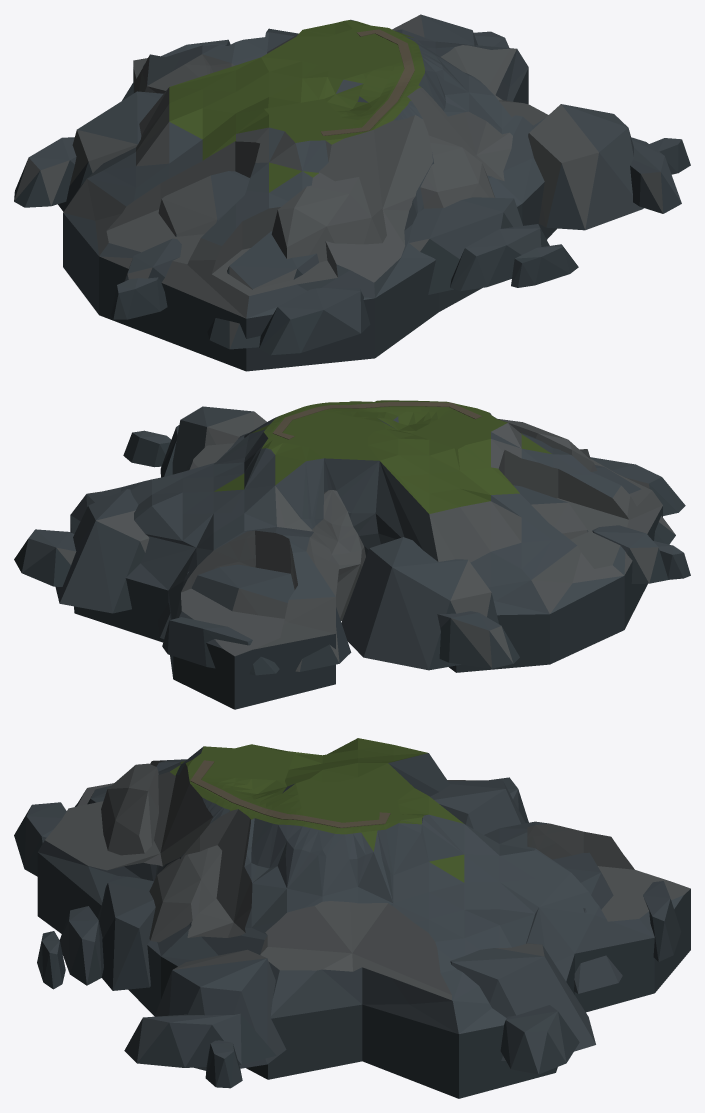
Rendered from island_c.glb.
The picture shows the model from 3 angles, top to bottom: view 1: azimuth 30°, elevation 25°; view 2: azimuth 150°, elevation 25°; view 3: azimuth 270°, elevation 25°; orthographic projection. The views are drawn at different scales.
Parts seen in each view (by area): view 1: island_c_Coast short olive grass, island_c_Coast blue grey bedrock, island_c_Coast weathered stone footpath; view 2: island_c_Coast short olive grass, island_c_Coast blue grey bedrock, island_c_Coast weathered stone footpath; view 3: island_c_Coast short olive grass, island_c_Coast blue grey bedrock, island_c_Coast weathered stone footpath.
Part boxes in pixels (x1,y1,x2,y2): island_c_Coast short olive grass: [63, 19, 556, 371]; island_c_Coast blue grey bedrock: [14, 14, 690, 355]; island_c_Coast weathered stone footpath: [320, 29, 414, 135]; island_c_Coast short olive grass: [70, 400, 662, 709]; island_c_Coast blue grey bedrock: [14, 406, 690, 675]; island_c_Coast weathered stone footpath: [272, 402, 481, 439]; island_c_Coast short olive grass: [37, 738, 690, 1098]; island_c_Coast blue grey bedrock: [14, 777, 681, 1088]; island_c_Coast weathered stone footpath: [190, 760, 390, 827].
Size of the model in its own units: 64.61 by 17.59 by 60.
